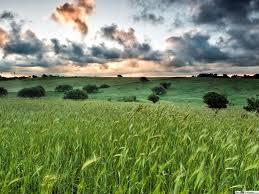field: (6, 79, 259, 190)
sky: (3, 4, 254, 78)
